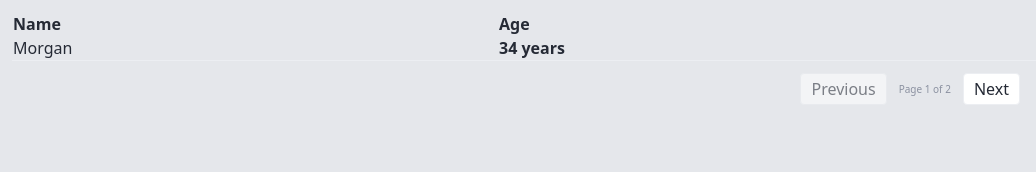
Scenario: DataTable › sorts generic rows, renders custom cells, and pages controlled data
The image size is (1036, 172).
Expected: the text "Morgan" is shown, [12,36,498,60]
Expected: the text "34 years" is shown, [499,37,565,59]
Click the button with aria-label "Sort by name" at (37, 24), box [13,13,61,35]
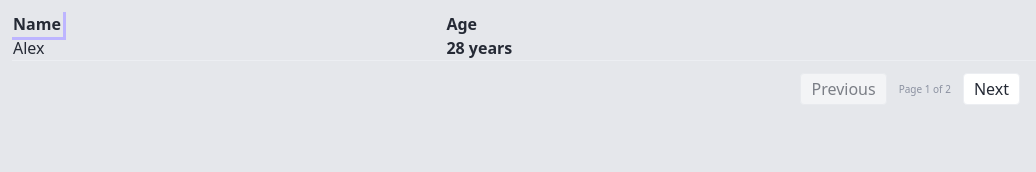
Expected: the text "Alex" is shown, [12,36,445,60]
Expected: the text "Morgan" is gone
Click the button "Next" at (991, 89), box [963,73,1020,105]
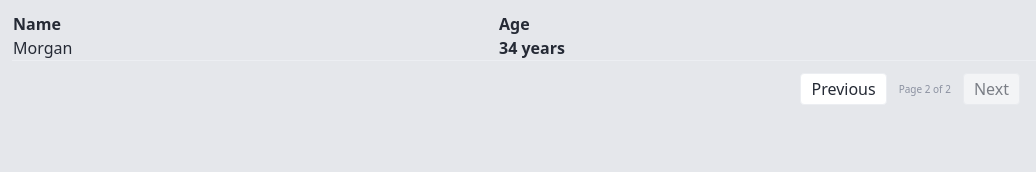
Expected: the text "Morgan" is shown, [12,36,498,60]
